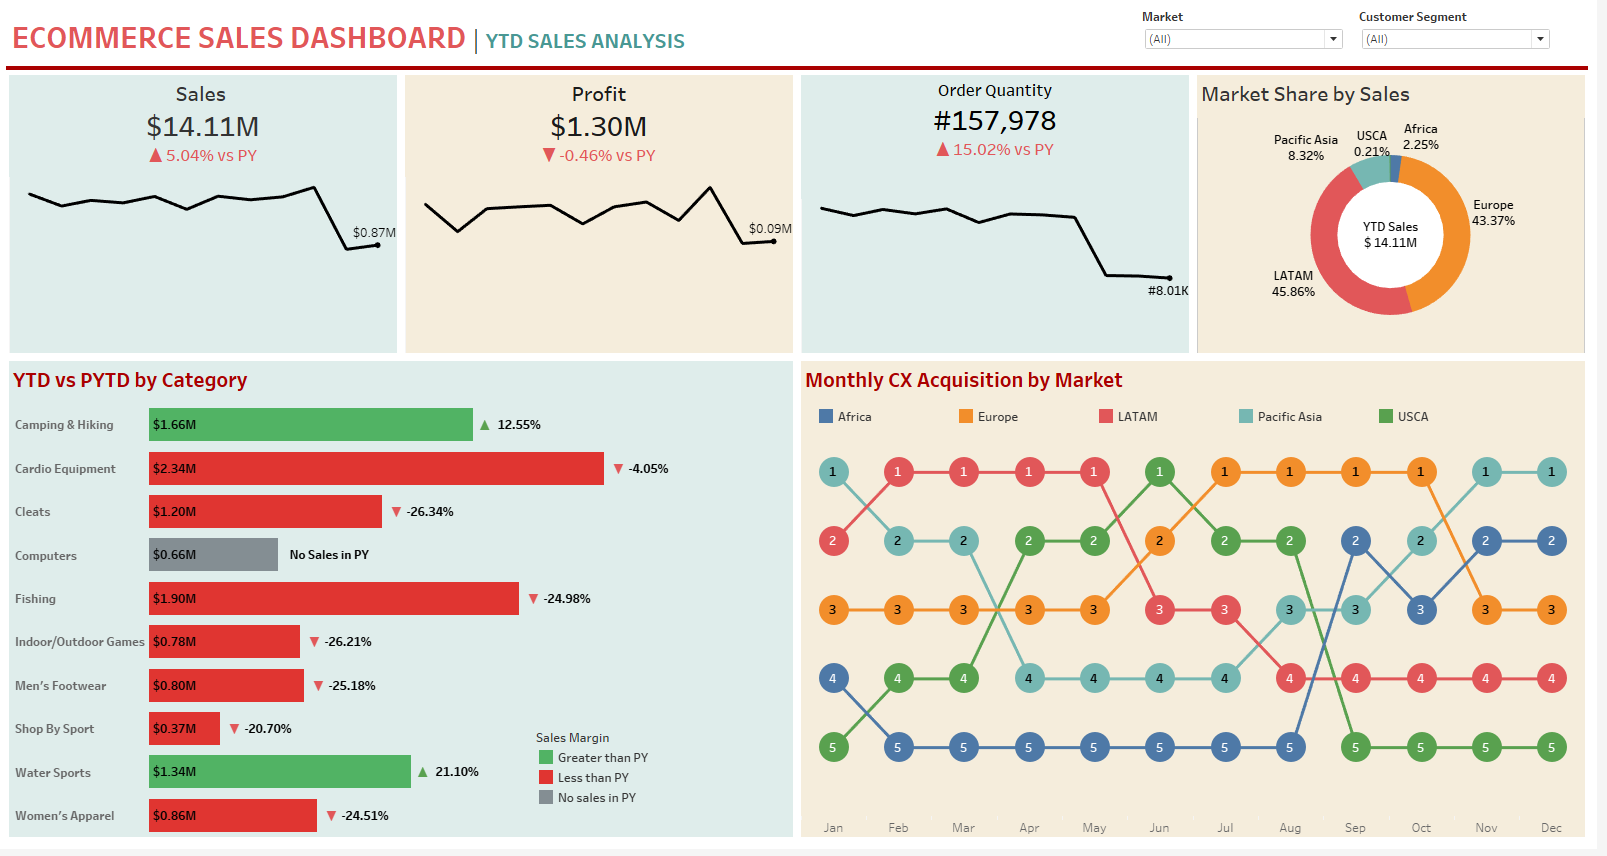

The dashboard page shown, as its layout file describes it:
{"tool":"tableau","page":{"name":"Dashboard 1","canvas":[1600,850],"ordinal":0},"visuals":[{"type":"title","box":[8,8,1584,58]},{"type":"filter","title":"Sales KPI","param":"[federated.0rf87rr0x3lgin1e83imf1nog8zv].[none:Market:nk]","box":[1145,9,204,54]},{"type":"filter","title":"Sales KPI","param":"[federated.0rf87rr0x3lgin1e83imf1nog8zv].[none:Customer Segment:nk]","box":[1362,9,194,55]},{"type":"blank","box":[8,66,1584,6]},{"type":"worksheet","title":"Sales KPI","mark":"Automatic","rows":["Sales"],"cols":["Order Date"],"box":[8,72,396,286]},{"type":"worksheet","title":"Profit KPI","mark":"Automatic","rows":["Profit Per Order"],"cols":["Order Date"],"box":[404,72,396,286]},{"type":"worksheet","title":"Order Quantity KPI","mark":"Automatic","rows":["Order Quantity"],"cols":["Order Date"],"box":[800,72,396,286]},{"type":"worksheet","title":"Market Share by Sales","mark":"Pie","cols":["Calculation_56857968673886223","Calculation_56857968673914897"],"box":[1196,72,396,286]},{"type":"worksheet","title":"YTD vs PYTD by Category","mark":"Bar","rows":["Category Name"],"cols":["Calculation_56857968674877458","Calculation_56857968674877458"],"box":[8,358,792,484]},{"type":"worksheet","title":"Monthly CX Acquisition by Market","mark":"Automatic","cols":["Order Date"],"box":[800,358,792,484]},{"type":"legend","title":"Monthly CX Acquisition by Market","param":"[federated.0rf87rr0x3lgin1e83imf1nog8zv].[none:Market:nk]","box":[819,407,736,27]},{"type":"legend","title":"YTD vs PYTD by Category","param":"[federated.0rf87rr0x3lgin1e83imf1nog8zv].[usr:Calculation_56857968679989270:nk]","box":[539,730,140,78]}]}

Visuals, with their boxes in screenshot pixels (x1, y1, x2, y2), scaled from the page's 1600x850 canvas onto the 1607x856 screenshot:
title: bbox(8, 8, 1599, 66)
"Sales KPI" filter: bbox(1150, 9, 1355, 63)
"Sales KPI" filter: bbox(1368, 9, 1563, 64)
blank: bbox(8, 66, 1599, 73)
"Sales KPI" worksheet: bbox(8, 73, 406, 361)
"Profit KPI" worksheet: bbox(406, 73, 804, 361)
"Order Quantity KPI" worksheet: bbox(804, 73, 1201, 361)
"Market Share by Sales" worksheet (Pie marks): bbox(1201, 73, 1599, 361)
"YTD vs PYTD by Category" worksheet (Bar marks): bbox(8, 361, 804, 848)
"Monthly CX Acquisition by Market" worksheet: bbox(804, 361, 1599, 848)
"Monthly CX Acquisition by Market" legend: bbox(823, 410, 1562, 437)
"YTD vs PYTD by Category" legend: bbox(541, 735, 682, 814)
